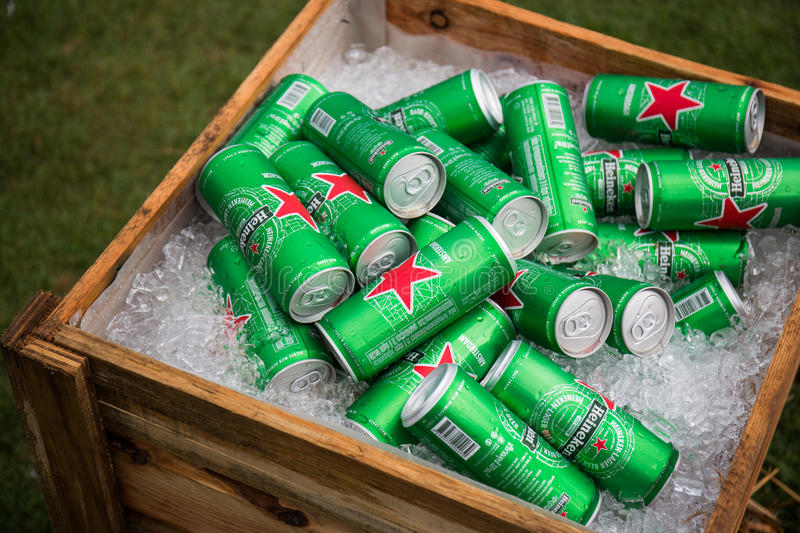can: (484, 337, 679, 506), (401, 360, 599, 525), (321, 215, 515, 379), (195, 141, 356, 334), (499, 64, 628, 284), (346, 305, 511, 450), (270, 137, 418, 281), (206, 235, 340, 391), (400, 124, 545, 256), (306, 87, 443, 214), (585, 71, 771, 149), (631, 151, 800, 229), (364, 66, 503, 150), (532, 266, 617, 369), (622, 269, 682, 363)
